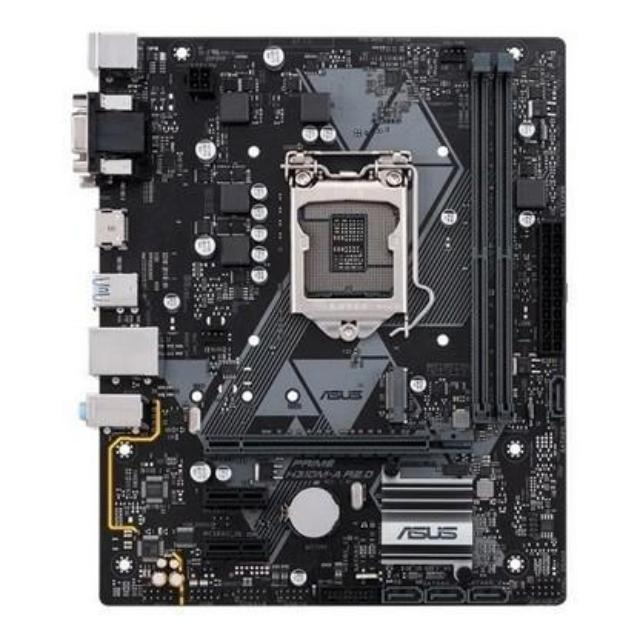Mainboard: (71, 26, 574, 614)
